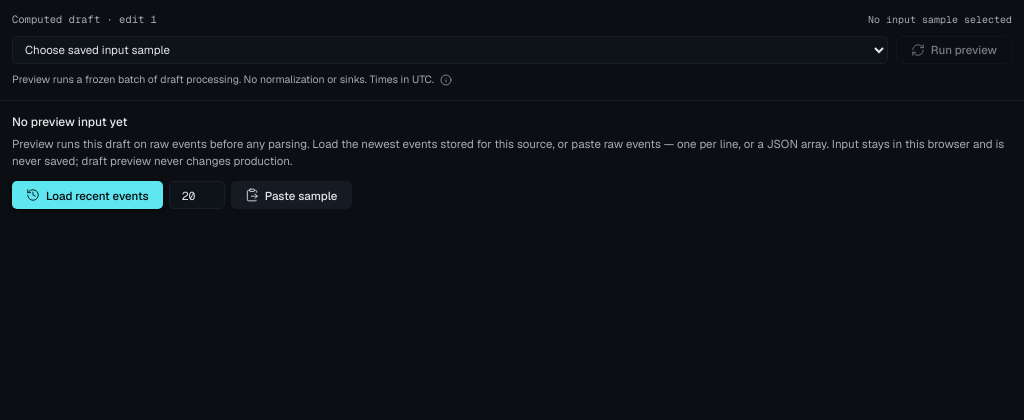
Test: Preview input without capture (NAN-3447) › bounds the load count and shows paste errors inline
Replace the text in the number field named "Recent events to load" with "101" at (197, 195), box [169,181,225,209]
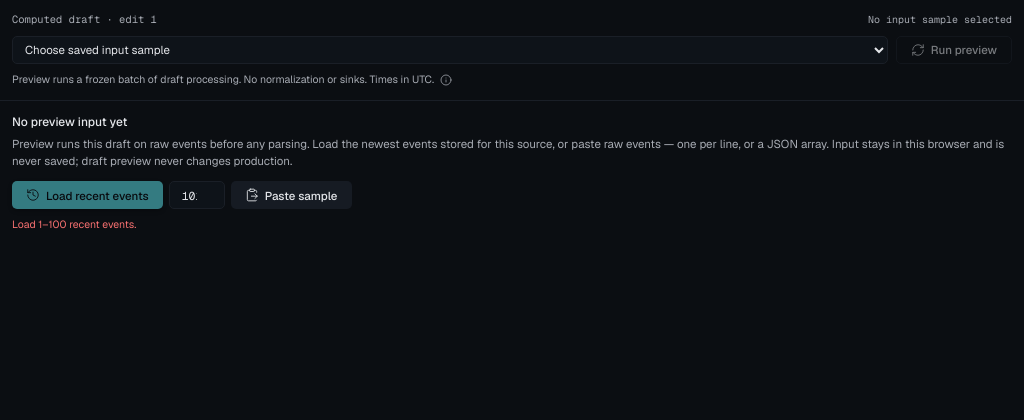
expect the button "Load recent events" is disabled: met, box [12,181,163,209]
expect the text "Load 1–100 recent events." is shown: met, box [12,217,136,231]
Click the button "Paste sample" at (291, 195), box [231,181,352,209]
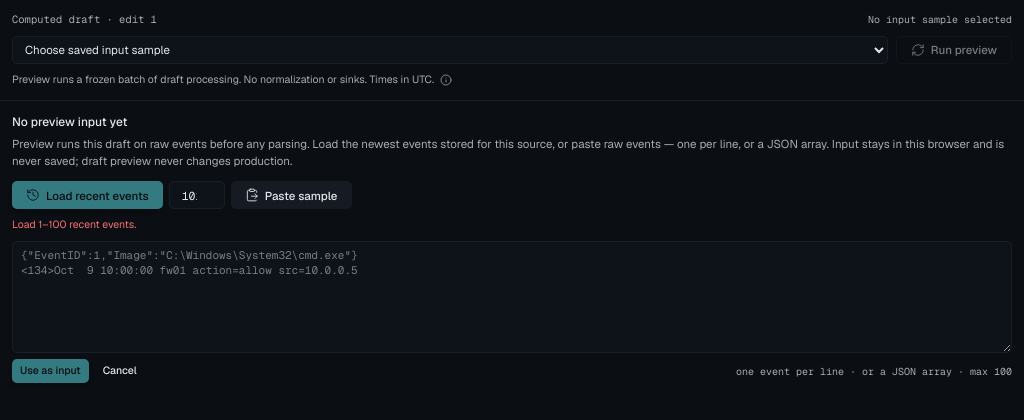
Replace the text in the text box named "Raw events to paste" with "x" at (512, 297), box [12,241,1012,353]
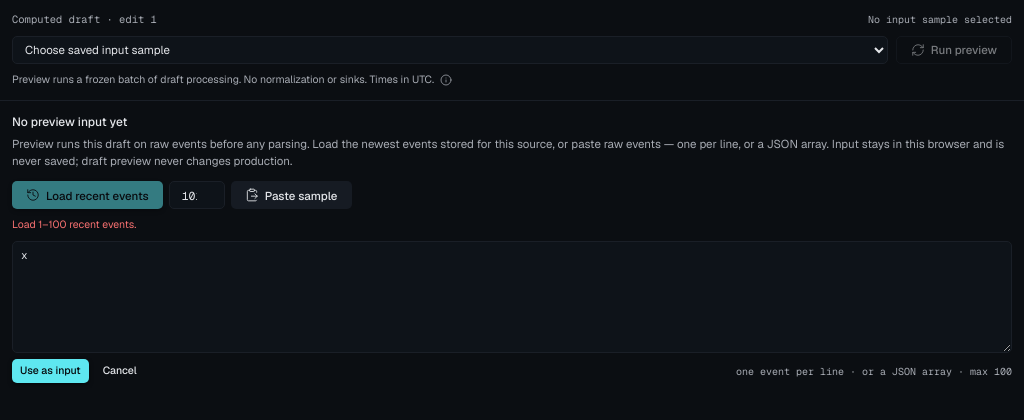
Click the button "Use as input" at (50, 371), box [12,359,89,383]
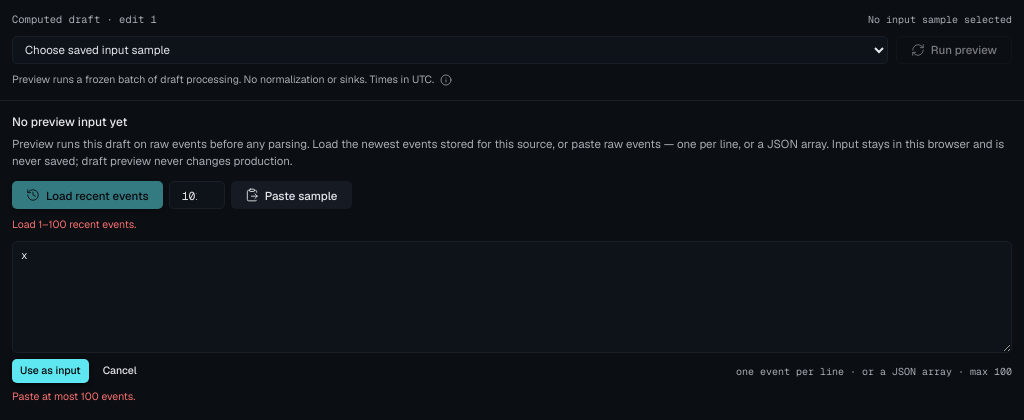
expect the text "Paste at most 100 events." is shown: met, box [12,389,135,403]
